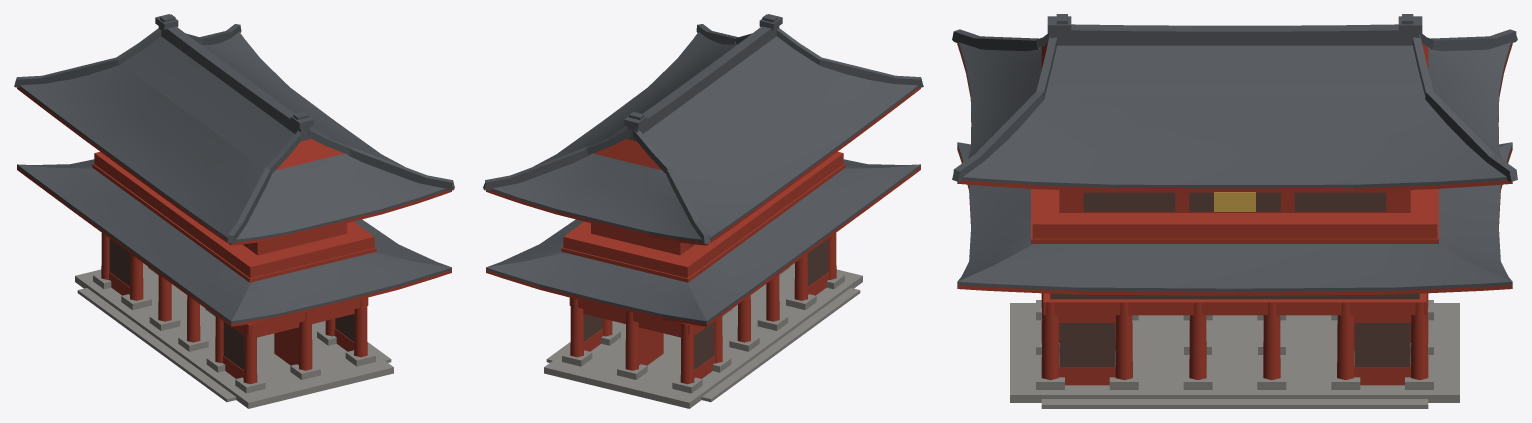
The model's file is tokyo-zojoji-sanmon.glb.
3 renders of one model, left to right at view 1: azimuth 30°, elevation 25°; view 2: azimuth 150°, elevation 25°; view 3: azimuth 270°, elevation 25°, orthographic. The views are drawn at different scales.
Visible parts, largest first — view 1: Zōjō-ji Sangedatsumon; view 2: Zōjō-ji Sangedatsumon; view 3: Zōjō-ji Sangedatsumon.
Part boxes in pixels (<box>): Zōjō-ji Sangedatsumon: <box>14,14,454,408</box>; Zōjō-ji Sangedatsumon: <box>483,14,923,408</box>; Zōjō-ji Sangedatsumon: <box>952,14,1517,408</box>.
Size of the model in its own units: 19.37 by 21.3 by 32.18.
